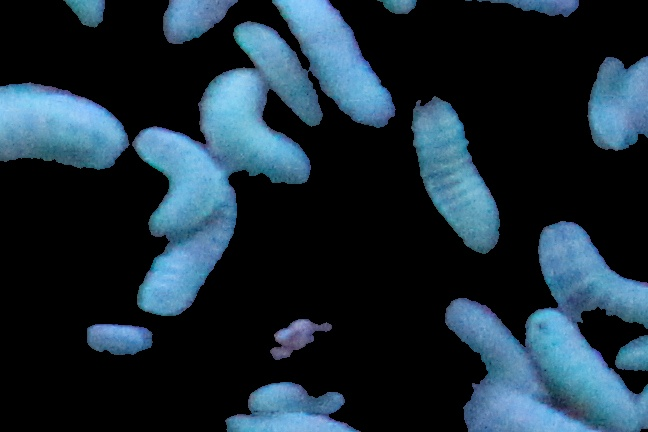larvae: (410, 97, 494, 253), (1, 78, 125, 176), (541, 214, 648, 324), (526, 306, 619, 424), (285, 1, 374, 121), (213, 85, 313, 183), (451, 376, 589, 432), (239, 20, 314, 118), (441, 298, 525, 380), (165, 201, 231, 296), (148, 135, 216, 226), (582, 57, 635, 151), (82, 321, 199, 360), (142, 1, 247, 43), (228, 407, 360, 432), (255, 382, 358, 414)
